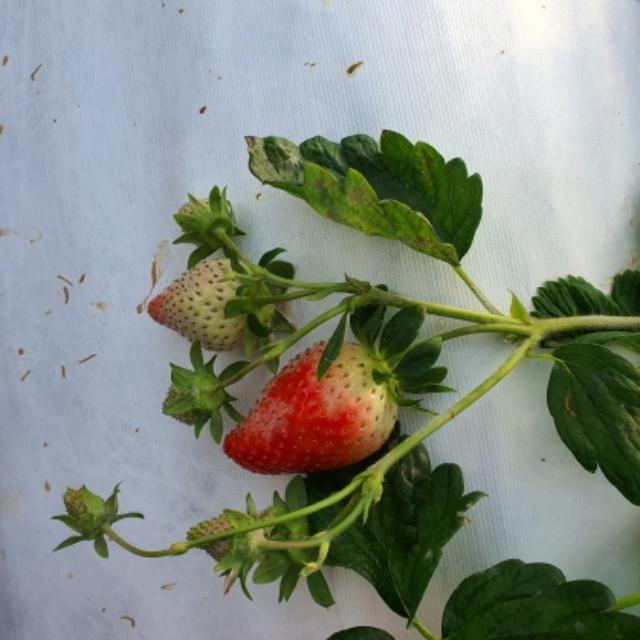Powdery Mildew Fruit: (228, 348, 311, 441)
